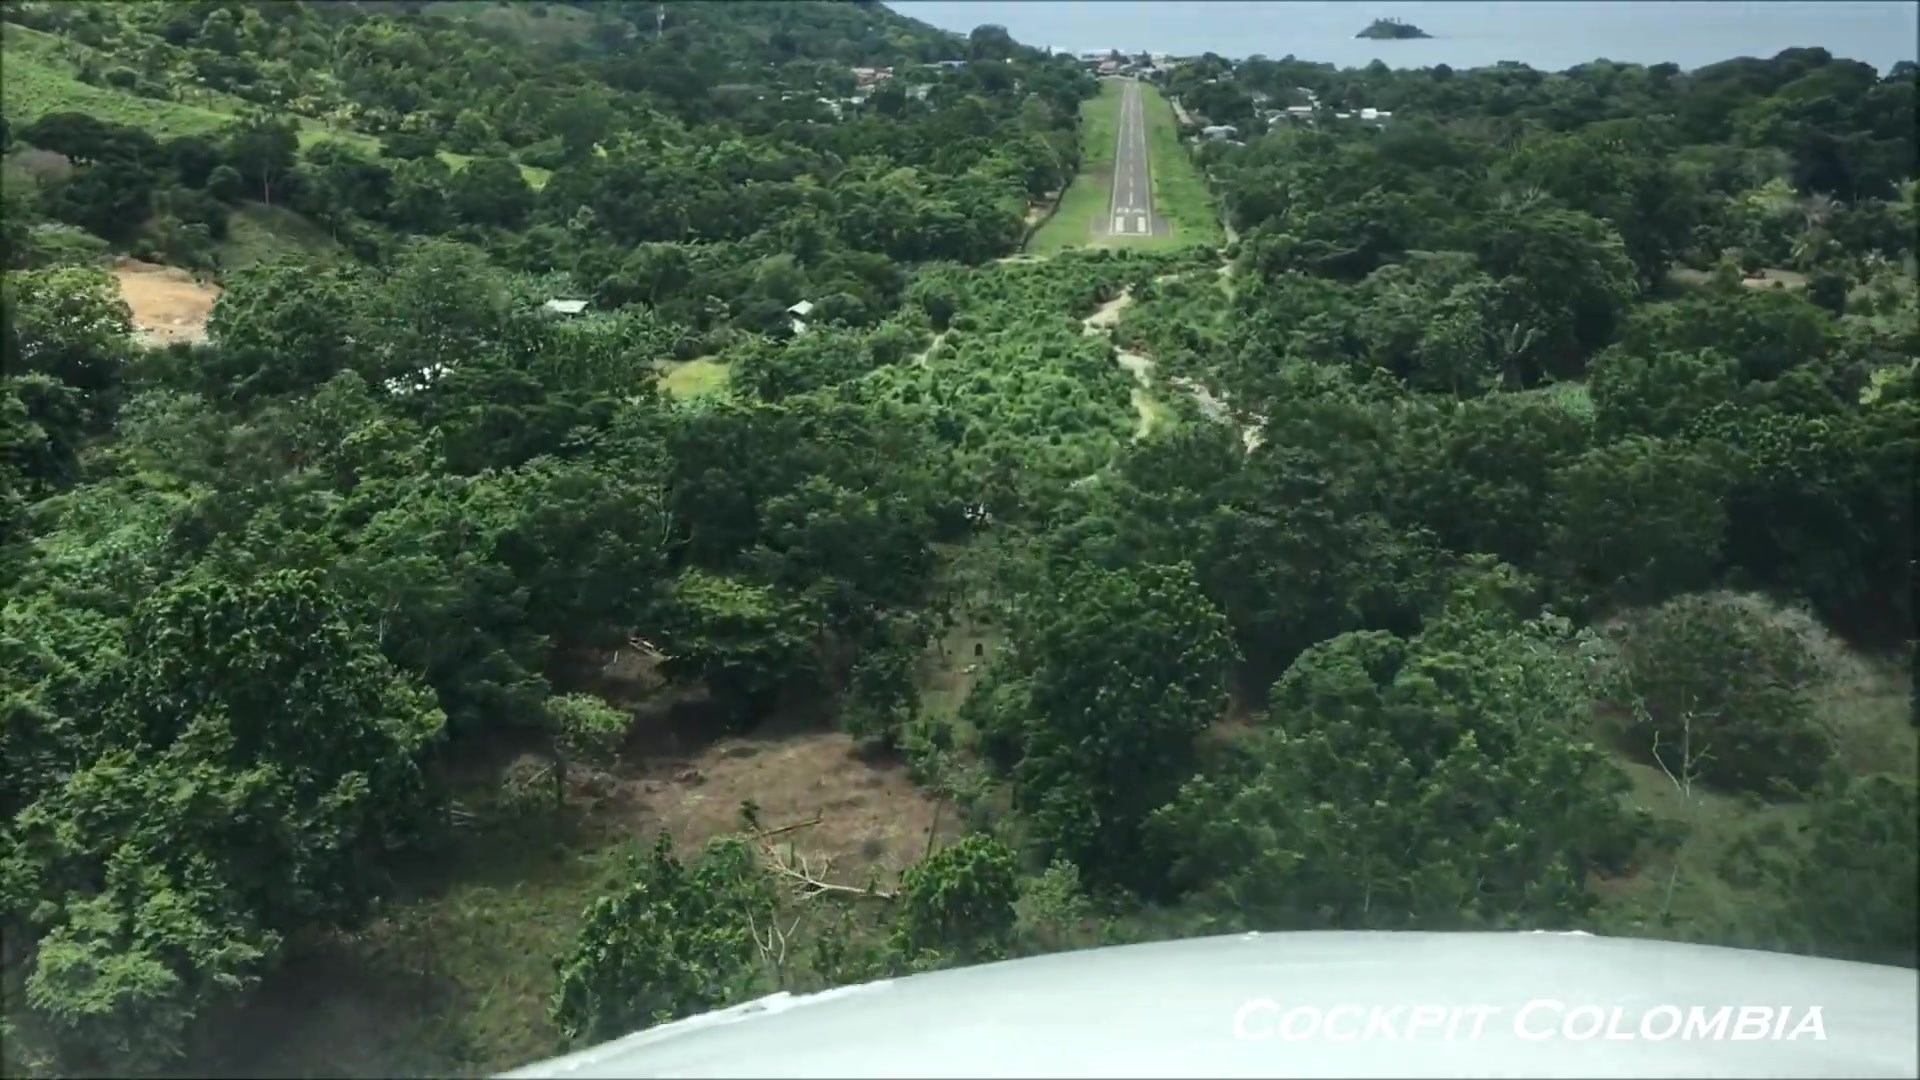entrance: (1112, 214, 1149, 233)
runway: (1108, 83, 1153, 237)
